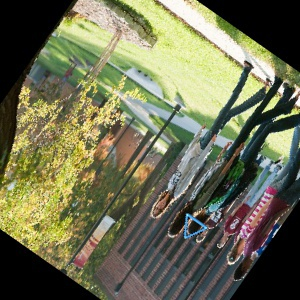triangle: (182, 211, 211, 241)
